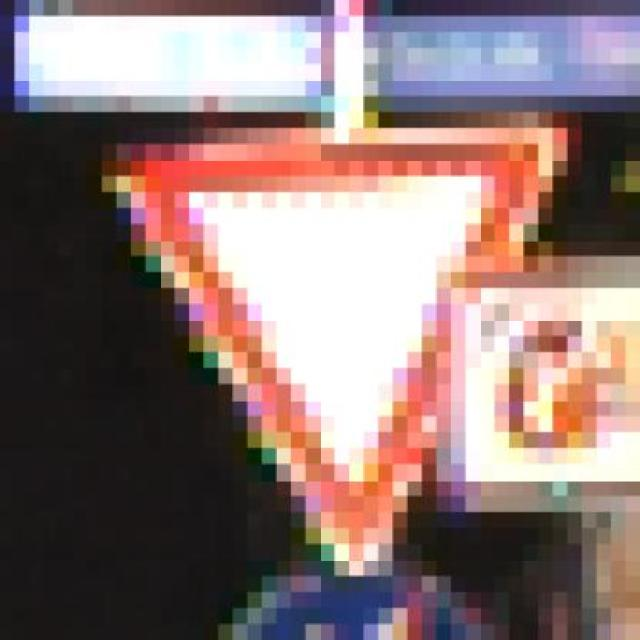Give Way: (59, 128, 638, 624)
